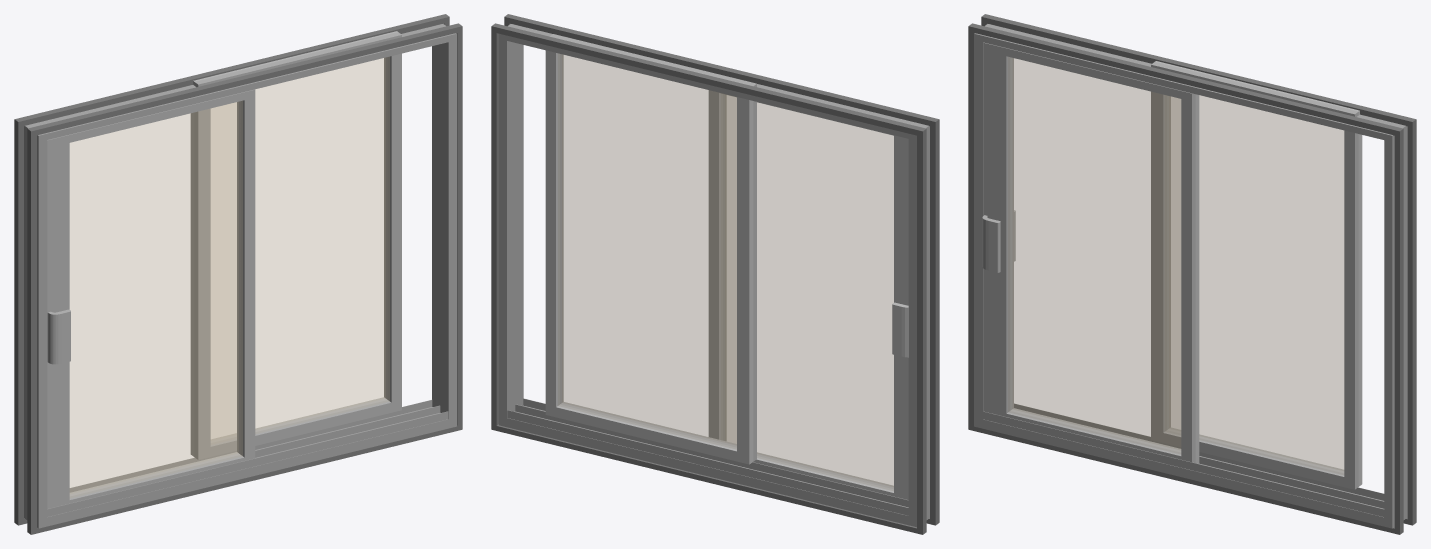
The model's file is slidingwindowfbx 1.fbx.
The picture shows the model from 3 angles, left to right: view 1: azimuth 30°, elevation 25°; view 2: azimuth 150°, elevation 25°; view 3: azimuth 330°, elevation 25°; orthographic projection.
Visible parts, largest first — view 1: Object_11, Object_16, Object_9, Object_12, Object_18, Object_8.001, Object_8, Object_17, Object_13; view 2: Object_16, Object_11, Object_9, Object_8, Object_17, Object_13, Object_8.001, Object_18, Object_12; view 3: Object_11, Object_16, Object_9, Object_12, Object_18, Object_8.001, Object_8, Object_17, Object_13.
Boxes of the visible parts, x1=… form: Object_11: x1=70, y1=101, x2=242, y2=497; Object_16: x1=211, y1=57, x2=389, y2=440; Object_9: x1=24, y1=24, x2=456, y2=528; Object_12: x1=47, y1=89, x2=255, y2=508; Object_18: x1=194, y1=32, x2=401, y2=459; Object_8.001: x1=27, y1=23, x2=462, y2=534; Object_8: x1=14, y1=14, x2=449, y2=525; Object_17: x1=190, y1=31, x2=397, y2=456; Object_13: x1=47, y1=101, x2=240, y2=496; Object_16: x1=558, y1=54, x2=736, y2=448; Object_11: x1=725, y1=95, x2=893, y2=490; Object_9: x1=499, y1=24, x2=929, y2=527; Object_8: x1=491, y1=23, x2=926, y2=534; Object_17: x1=545, y1=50, x2=753, y2=464; Object_13: x1=708, y1=90, x2=908, y2=499; Object_8.001: x1=504, y1=14, x2=939, y2=525; Object_18: x1=550, y1=34, x2=756, y2=461; Object_12: x1=723, y1=94, x2=893, y2=489; Object_11: x1=1008, y1=57, x2=1180, y2=453; Object_16: x1=1169, y1=95, x2=1343, y2=474; Object_9: x1=974, y1=24, x2=1407, y2=528; Object_12: x1=982, y1=42, x2=1195, y2=462; Object_18: x1=1151, y1=62, x2=1358, y2=489; Object_8.001: x1=968, y1=23, x2=1403, y2=534; Object_8: x1=981, y1=14, x2=1416, y2=525; Object_17: x1=1155, y1=61, x2=1362, y2=486; Object_13: x1=1010, y1=57, x2=1199, y2=463.
Size of what is drawn, in the model's own units: 9425 by 8426 by 828.
